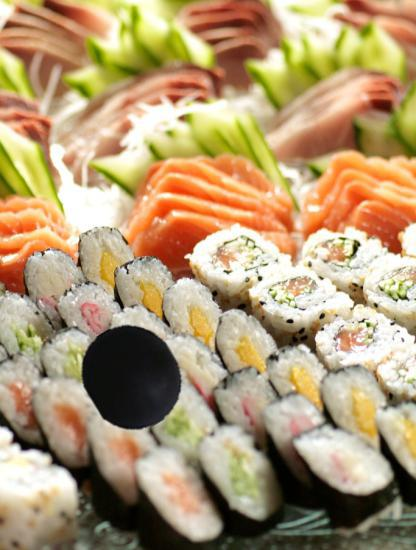Grape: (79, 324, 186, 431)
